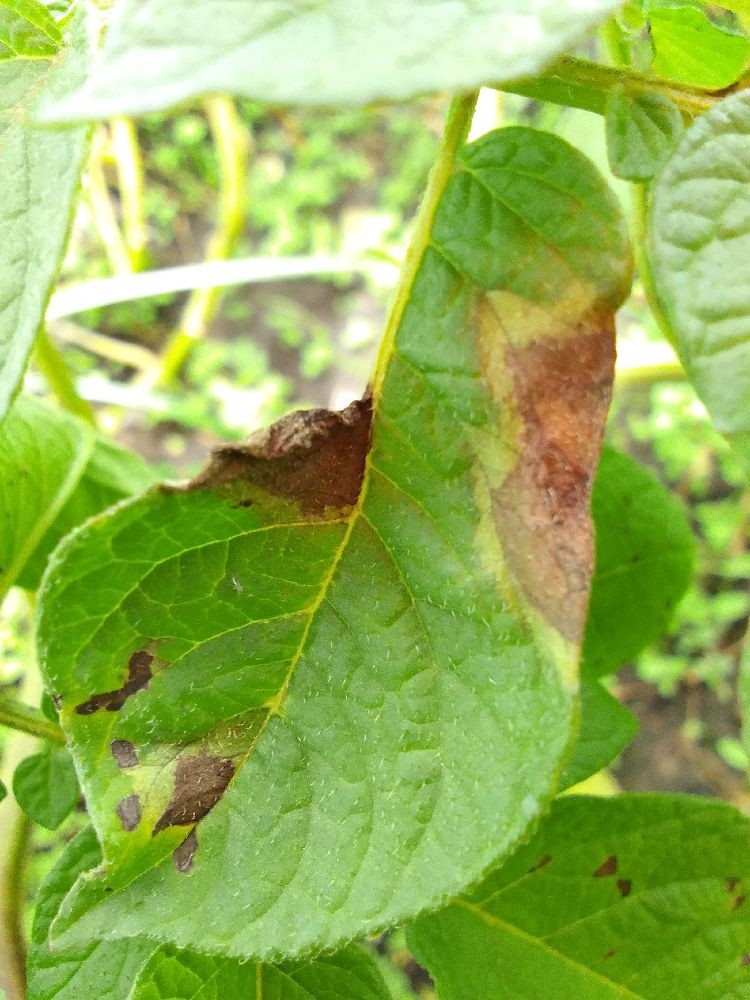late_blight: (82, 271, 424, 600), (454, 242, 657, 667), (595, 646, 750, 826), (137, 722, 251, 884)
